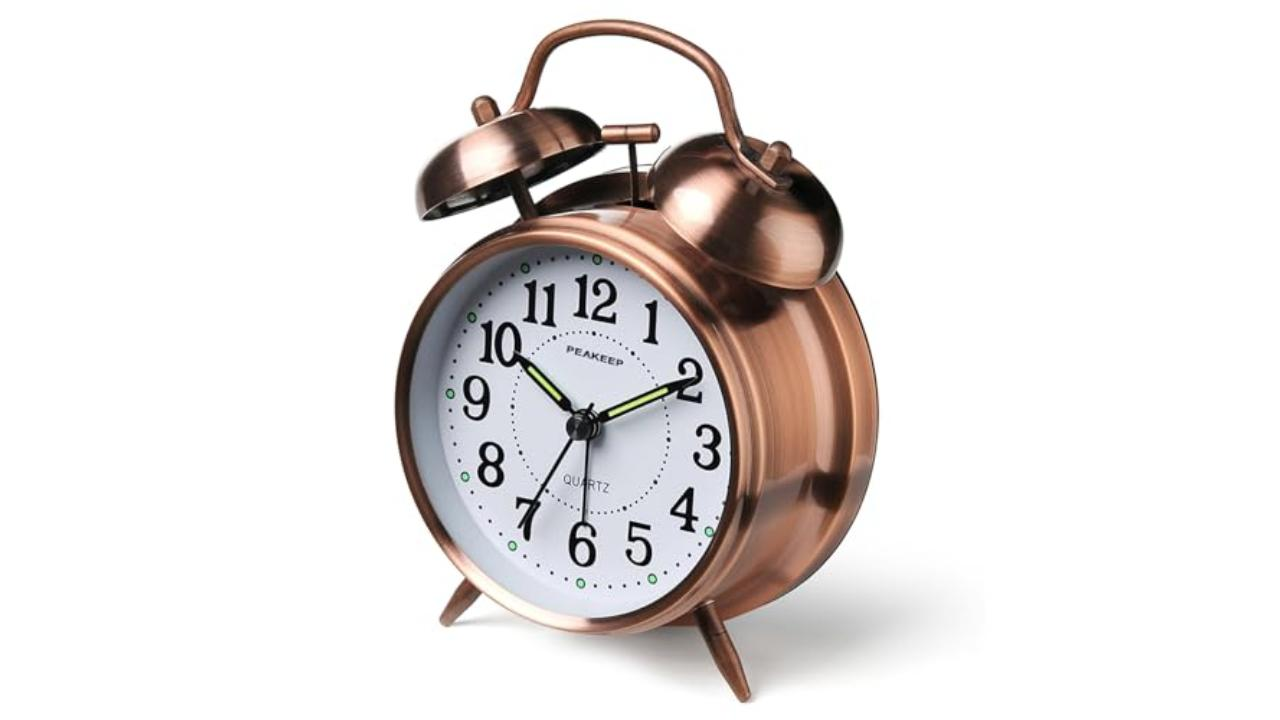clock: (380, 18, 888, 700)
